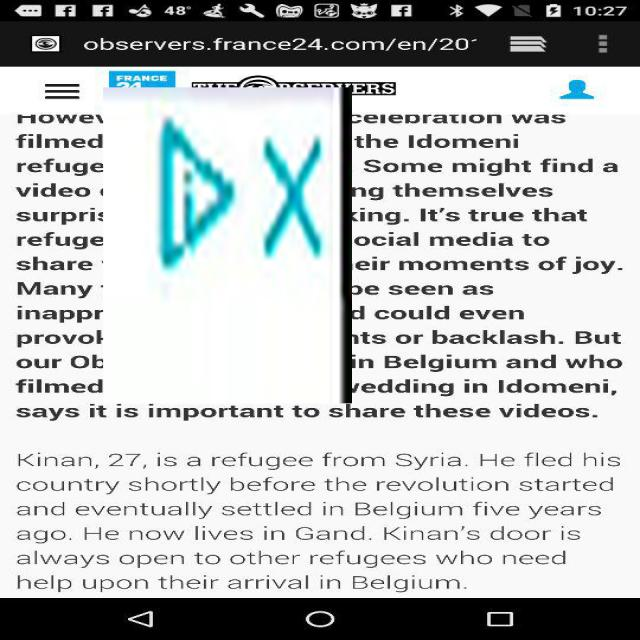sneaking: (103, 88, 352, 404)
